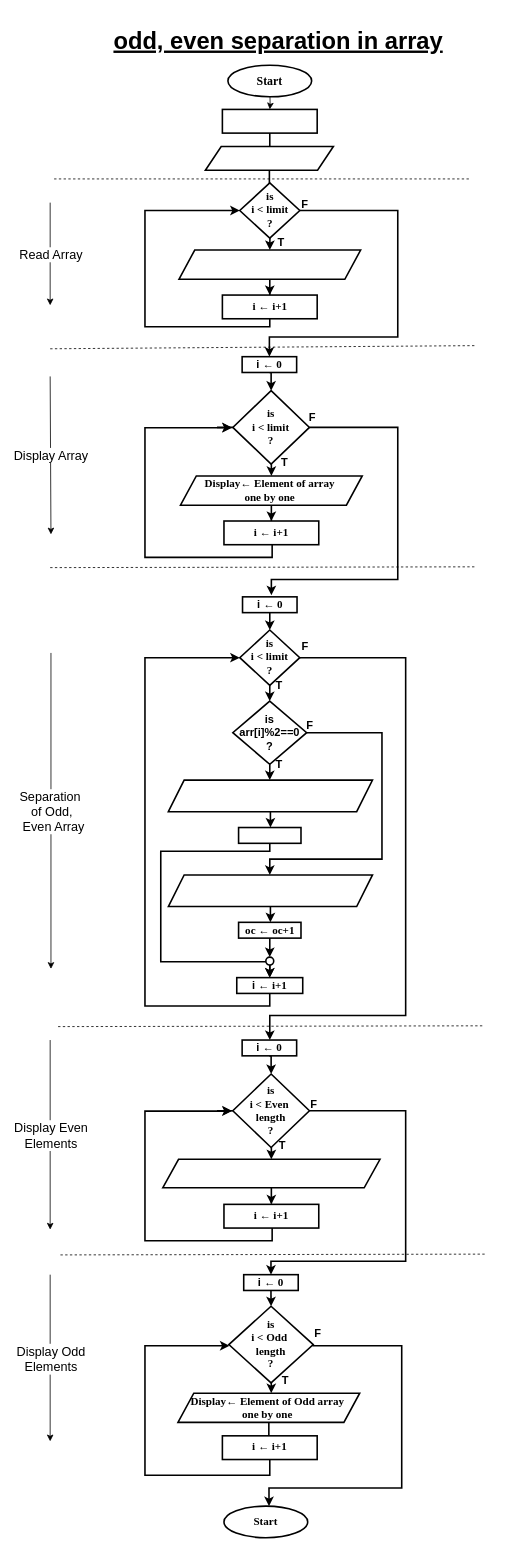
The diagram is 506 pixels wide and 1552 high, and some of its shapes have lost their labels. The centre of each missing label's shape, as x and y in pixels:
"Display ← Element of Even array one by one" goes at point (271, 1173).
"ec ← ec+1" goes at point (269, 835).
"i=0, ec=0, oc=0" goes at point (269, 121).
"Input ← Element of array one by one" goes at point (269, 264).
"Input ← input element in even array one by one" goes at point (270, 795).
"Input ← input element in oddarray one by one" goes at point (270, 890).
"input ← limit" goes at point (269, 158).
